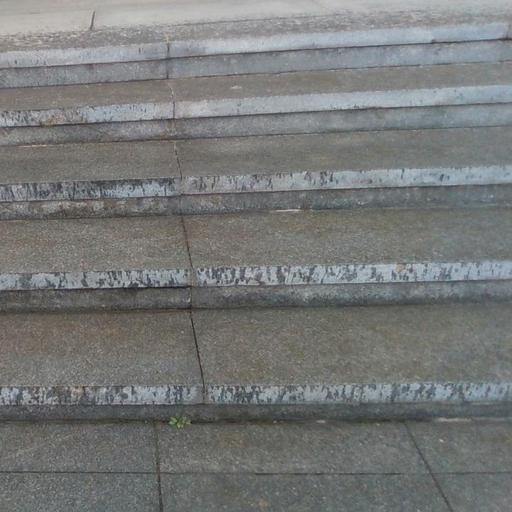stairs: (0, 13, 511, 418)
